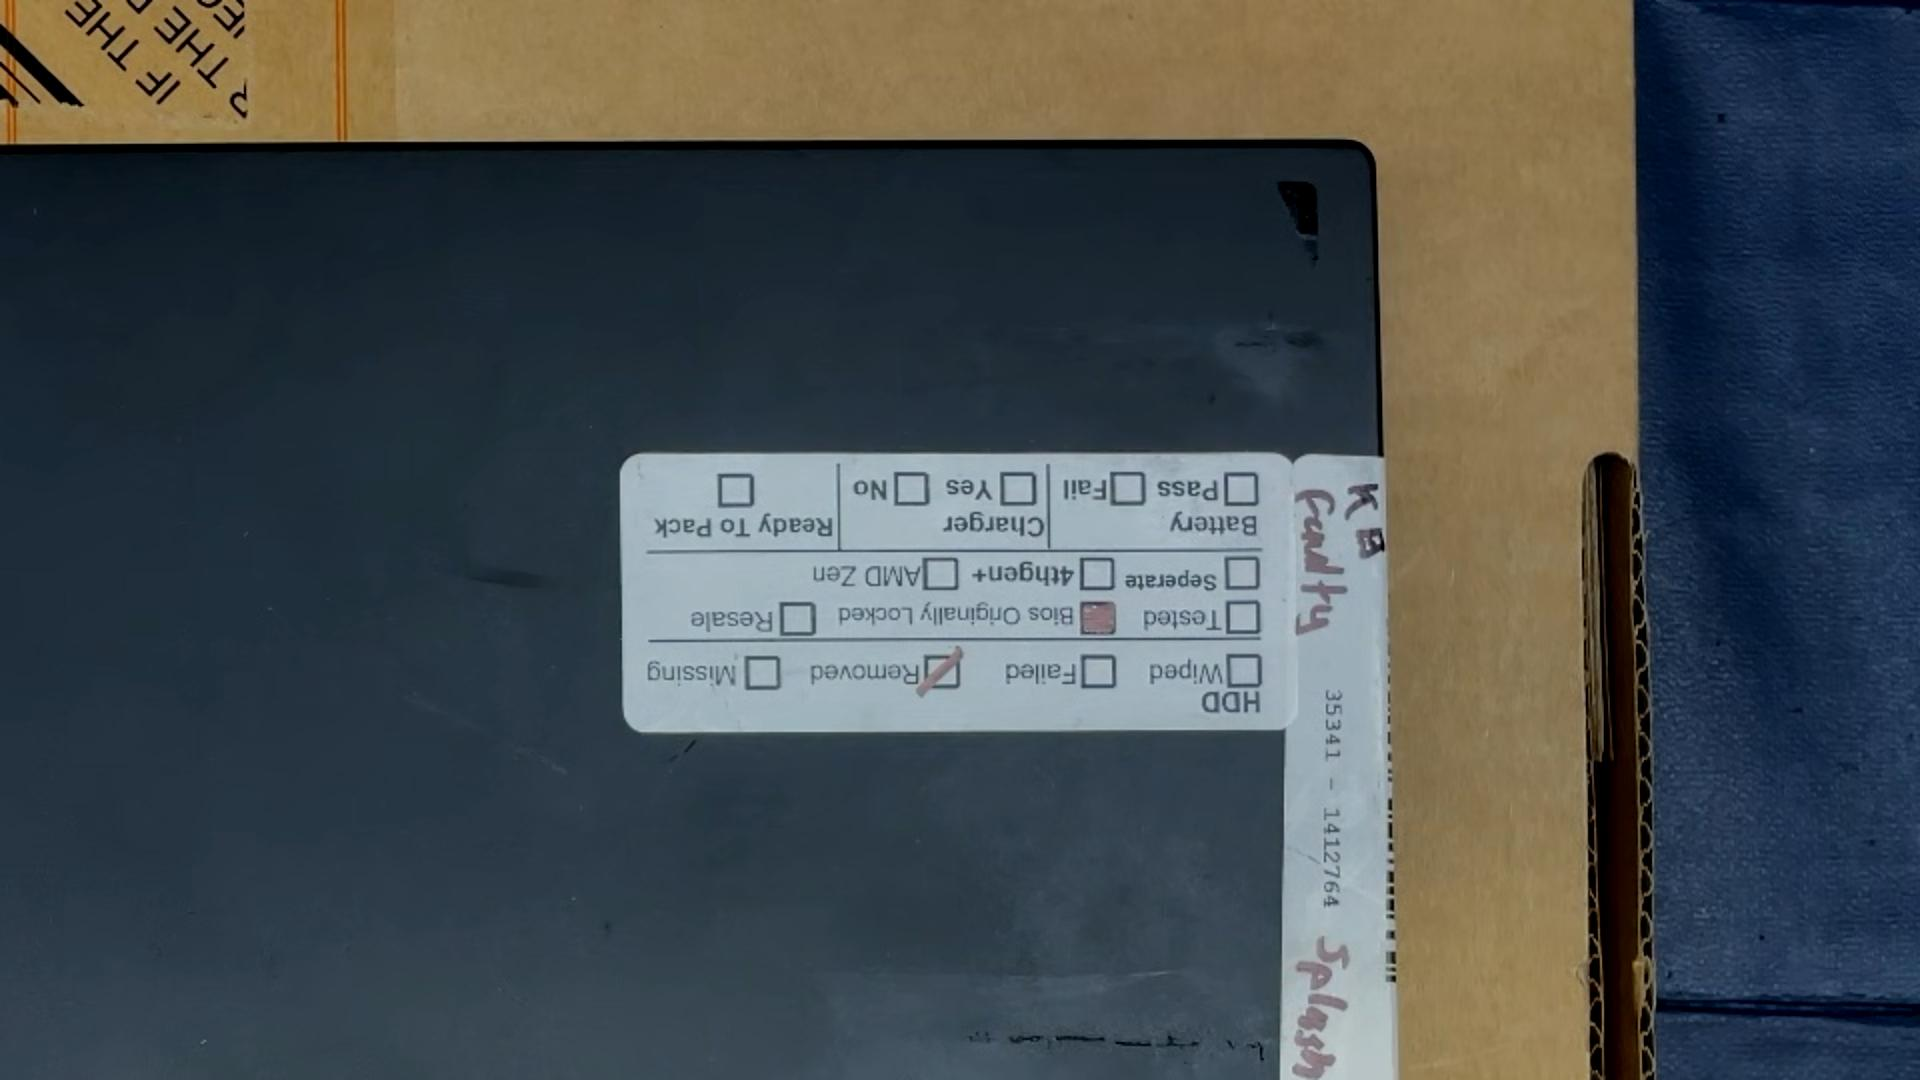scratches: (967, 1032, 1202, 1049), (1258, 1040, 1267, 1063), (1223, 1038, 1237, 1051)
